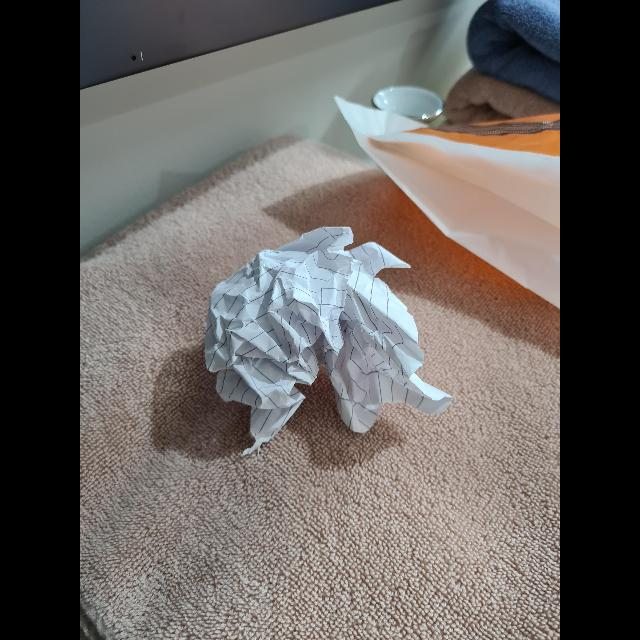trash: (202, 224, 426, 446)
